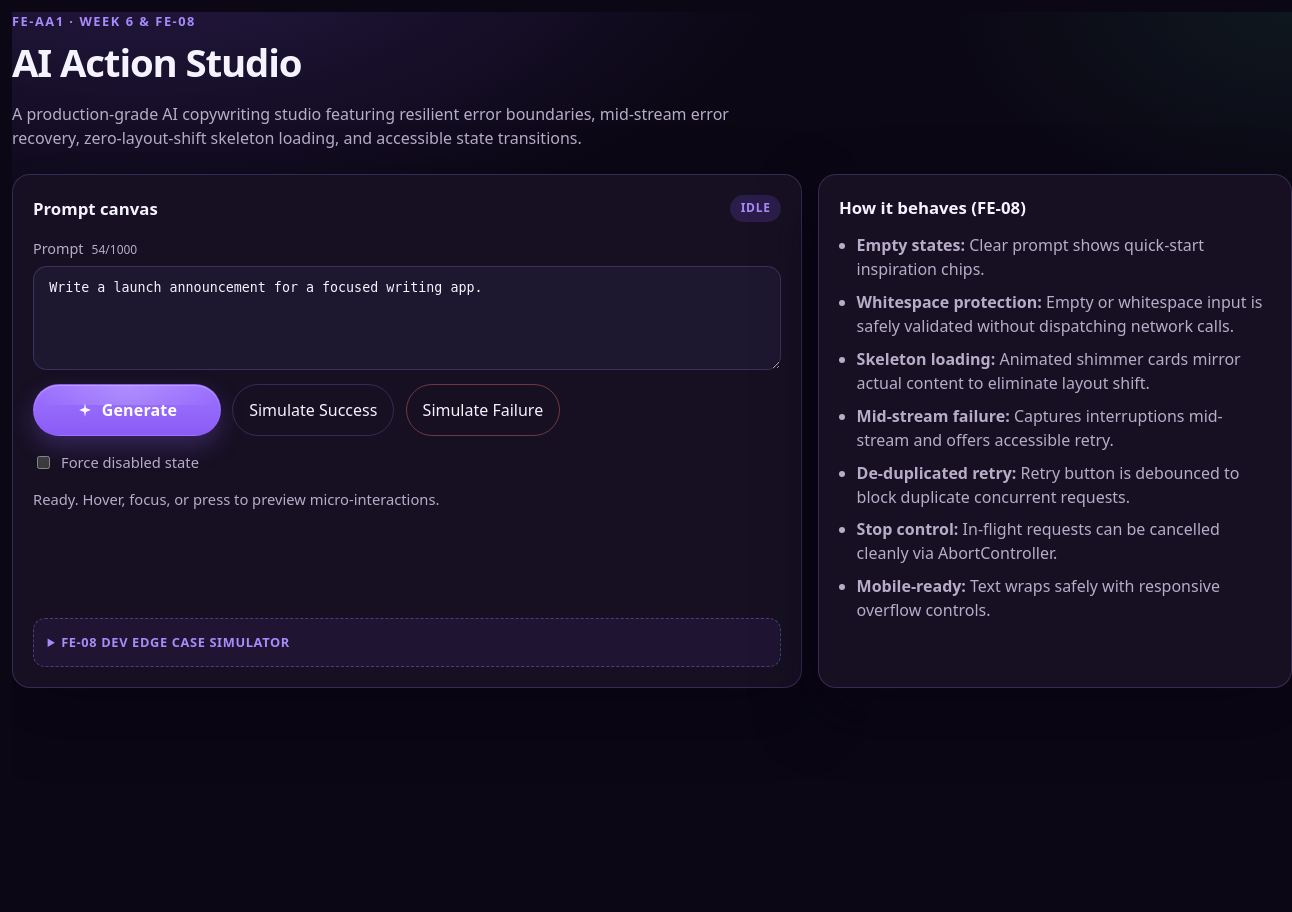
Test case: ActionStudio › displays error message and allows de-duplicated retry when request fails mid-stream
Replace the text in the text box with "Midstream test prompt" at (407, 318), box top-left (33, 266), bottom-right (781, 370)
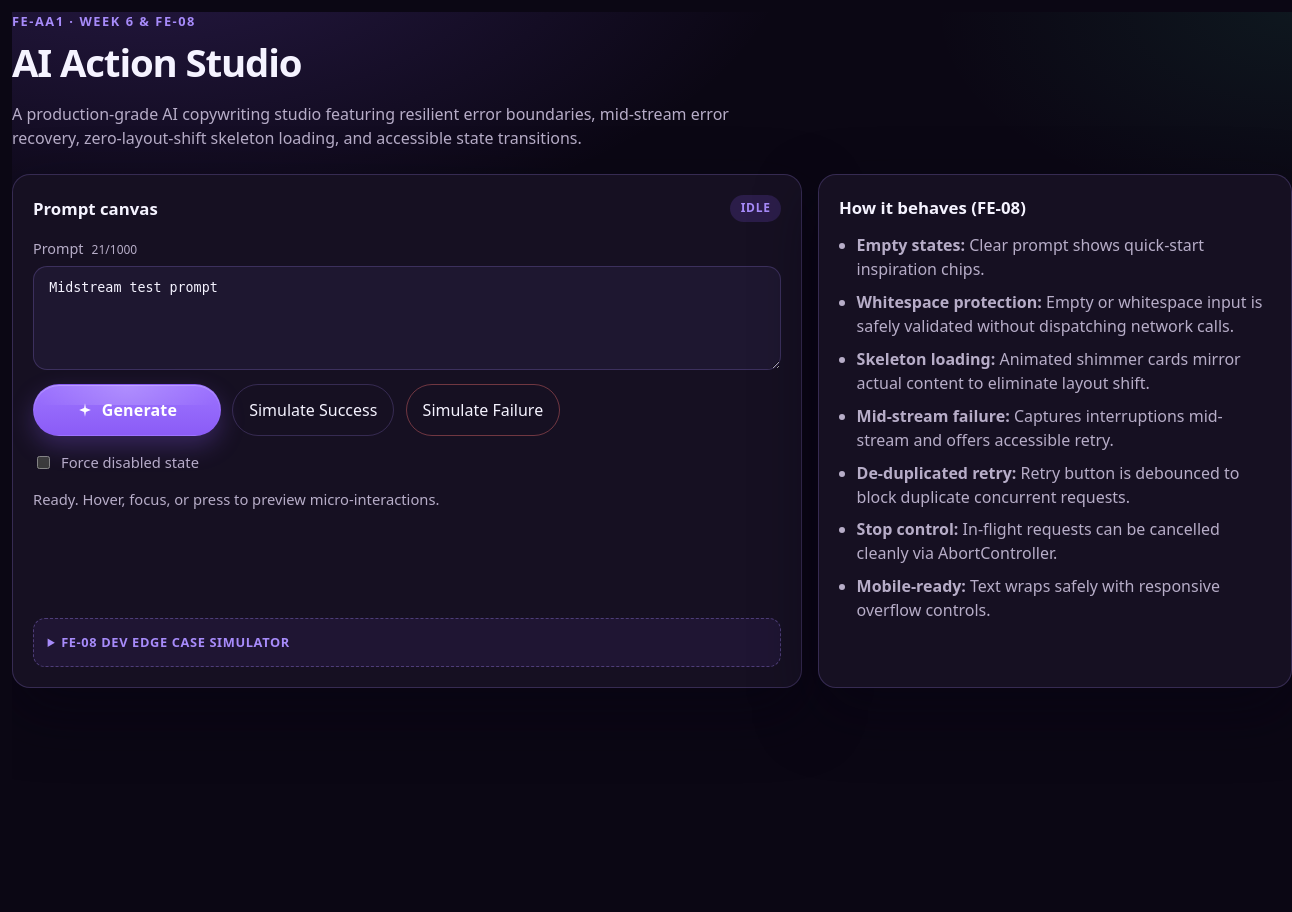
Click the button "Generate" at (127, 410), box top-left (33, 384), bottom-right (221, 436)
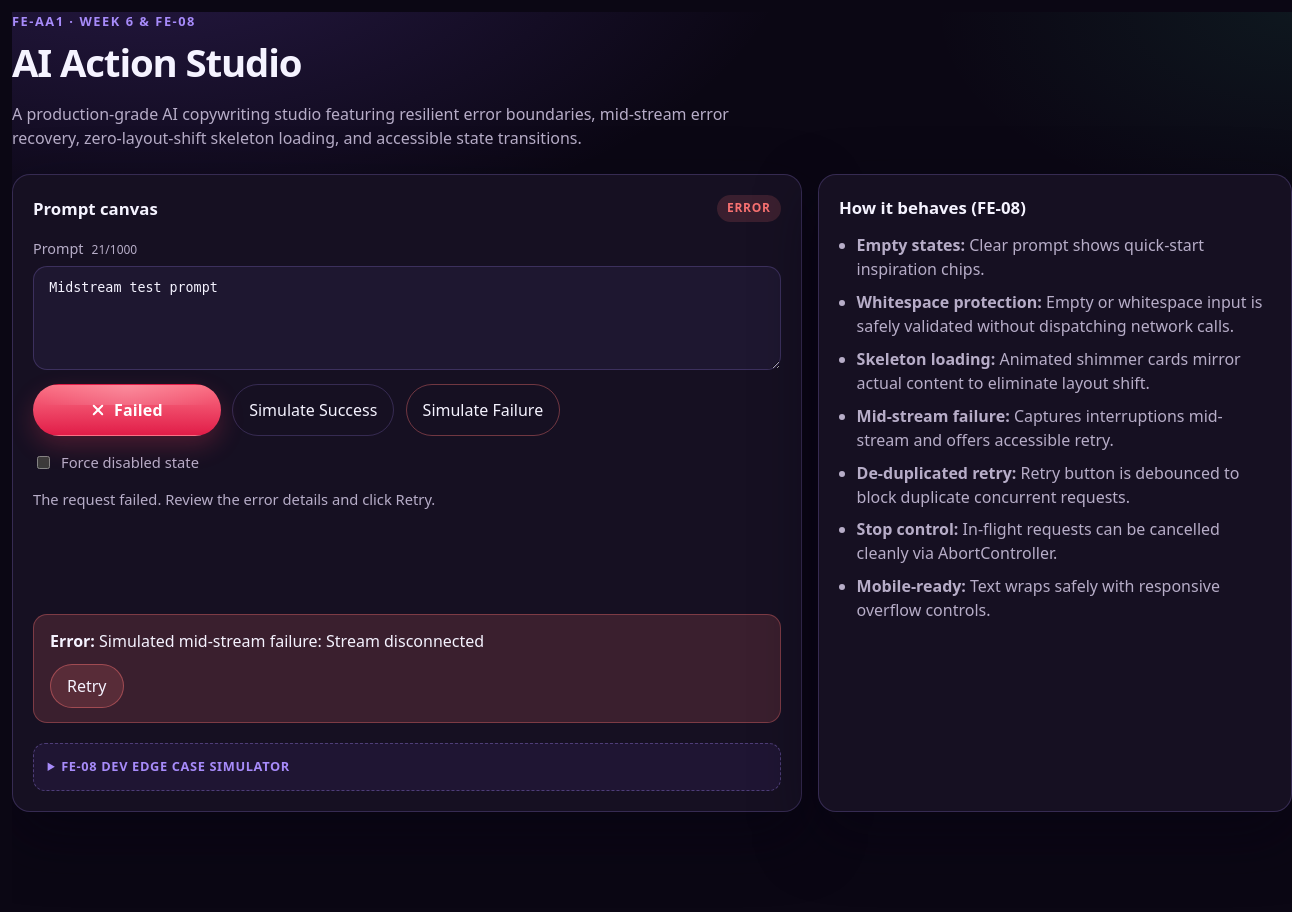
Result: the text "Error: Simulated mid-stream failure: Stream disconnected" is shown at top-left (50, 630), bottom-right (484, 652)
Result: the button "Retry" is shown
# Click retry
Click the button "Retry" at (87, 686), box top-left (50, 664), bottom-right (124, 708)
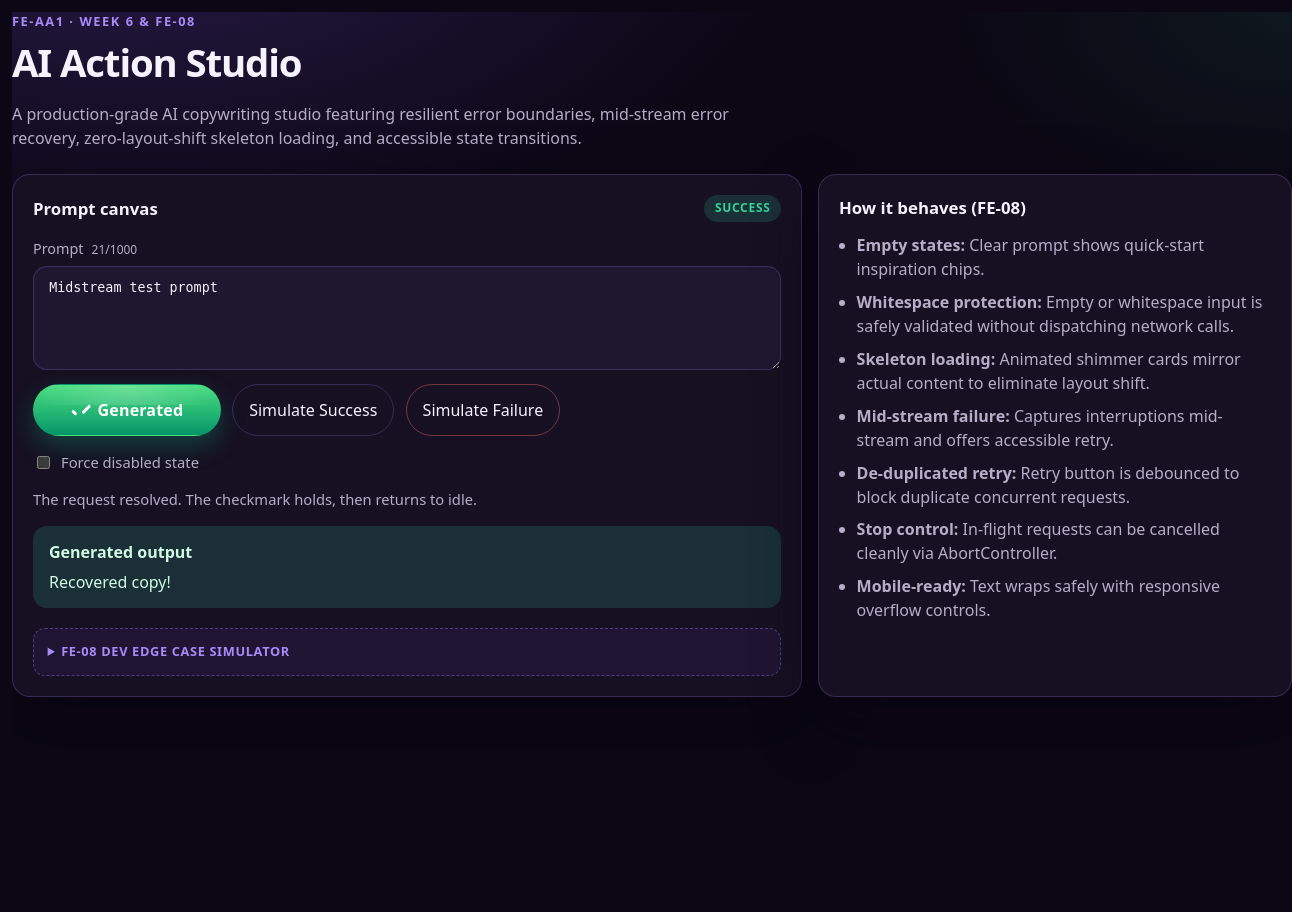
Result: the text "Recovered copy!" is shown at top-left (49, 571), bottom-right (171, 593)
